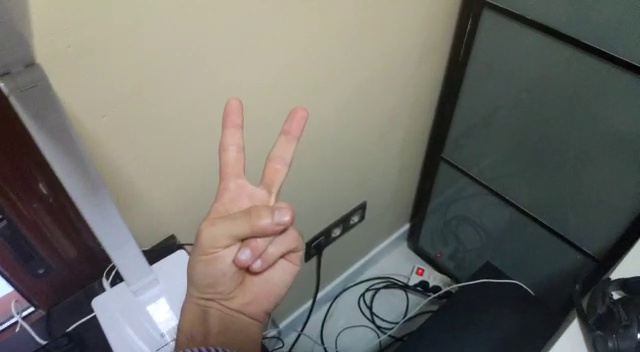Peace: (186, 95, 313, 292)
